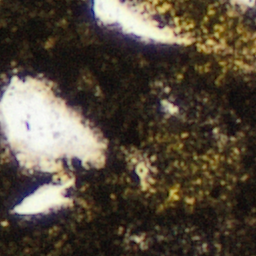cement_matrix: (0, 0, 255, 255), (134, 158, 151, 187), (202, 40, 221, 49), (164, 102, 176, 114)
gravel_crushed_stones: (0, 77, 104, 216), (92, 0, 192, 44), (135, 159, 150, 186), (230, 0, 255, 8), (203, 41, 220, 48), (165, 103, 175, 113)
